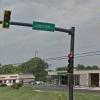Traffic light: (1, 7, 16, 32)
